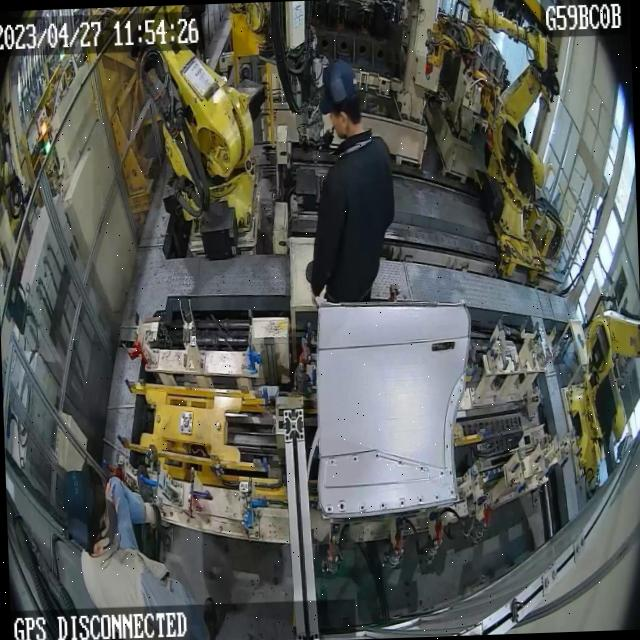Person: (62, 459, 214, 640), (297, 56, 398, 306)
